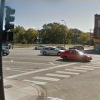crosswalk: (22, 63, 100, 86)
